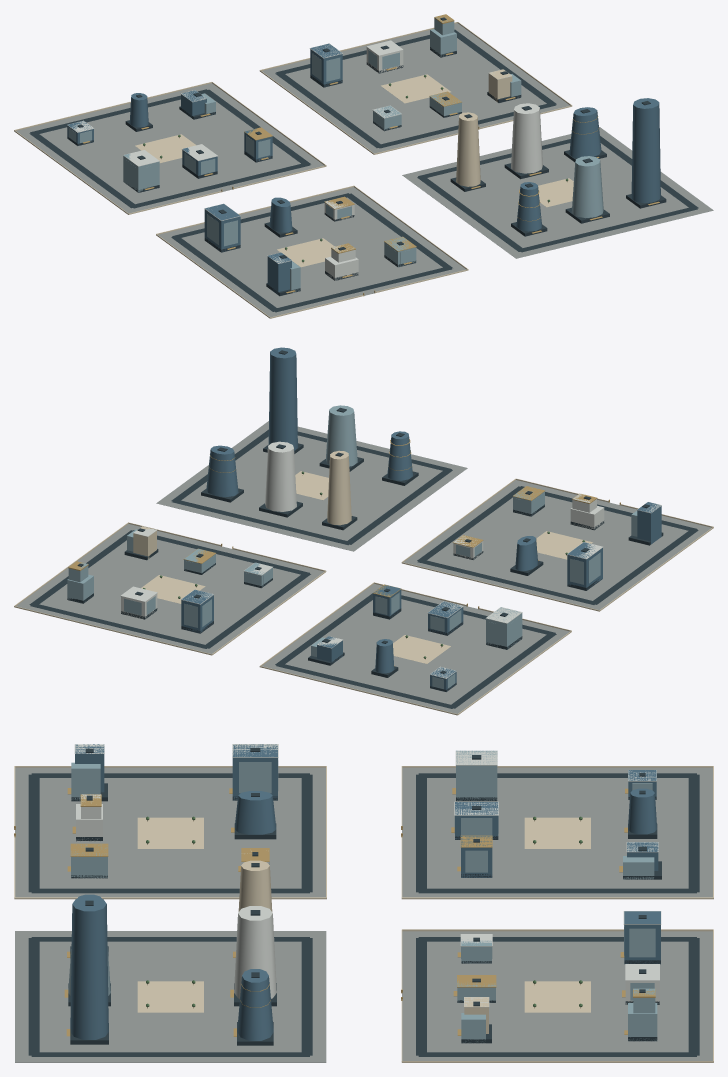
File: GC-TILE-06-08.glb
3 renders of one model, top to bottom at view 1: azimuth 30°, elevation 25°; view 2: azimuth 150°, elevation 25°; view 3: azimuth 270°, elevation 25°, orthographic. The views are drawn at different scales.
Parts seen in each view (by area): view 1: GC-TILE-06-08-paving, GC-TILE-06-08-dark, GC-TILE-06-08-blue, GC-TILE-06-08-ivory, GC-TILE-06-08-glass, GC-TILE-06-08-white, GC-TILE-06-08-gold; view 2: GC-TILE-06-08-paving, GC-TILE-06-08-dark, GC-TILE-06-08-blue, GC-TILE-06-08-ivory, GC-TILE-06-08-glass, GC-TILE-06-08-white, GC-TILE-06-08-gold; view 3: GC-TILE-06-08-paving, GC-TILE-06-08-dark, GC-TILE-06-08-blue, GC-TILE-06-08-ivory, GC-TILE-06-08-glass, GC-TILE-06-08-white, GC-TILE-06-08-gold.
Boxes of the visible parts, x1,y1,x2,y2 form: GC-TILE-06-08-paving: (16,23,713,317); GC-TILE-06-08-dark: (29,17,698,312); GC-TILE-06-08-blue: (67,43,660,294); GC-TILE-06-08-ivory: (14,22,573,318); GC-TILE-06-08-glass: (68,17,603,292); GC-TILE-06-08-white: (67,40,542,280); GC-TILE-06-08-gold: (83,14,659,295); GC-TILE-06-08-paving: (16,421,711,713); GC-TILE-06-08-dark: (29,350,698,708); GC-TILE-06-08-blue: (181,347,661,691); GC-TILE-06-08-ivory: (14,450,713,715); GC-TILE-06-08-glass: (67,405,637,689); GC-TILE-06-08-white: (120,441,661,678); GC-TILE-06-08-gold: (68,439,620,666); GC-TILE-06-08-paving: (15,767,712,1062); GC-TILE-06-08-dark: (28,748,699,1056); GC-TILE-06-08-blue: (70,744,660,1040); GC-TILE-06-08-ivory: (14,766,713,1062); GC-TILE-06-08-glass: (68,750,657,1042); GC-TILE-06-08-white: (74,744,661,1007); GC-TILE-06-08-gold: (14,788,655,1036).
Bounding box in the file's own units: 759 × 160 × 760.
